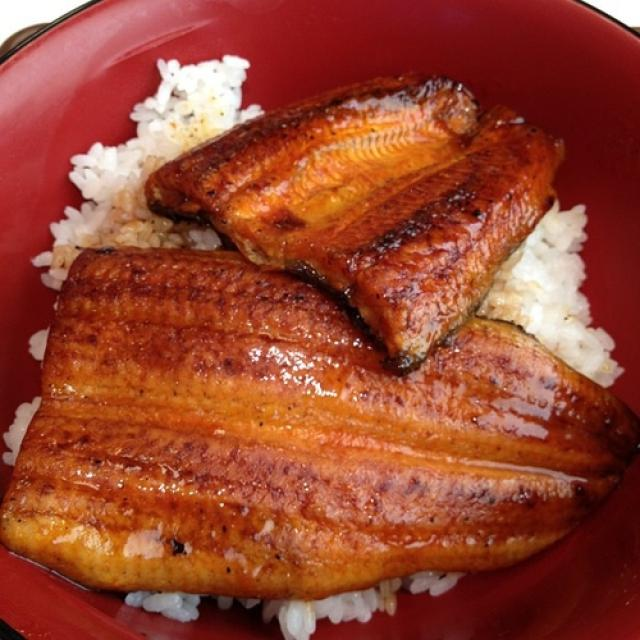熟制海鲜: (1, 5, 635, 634)
